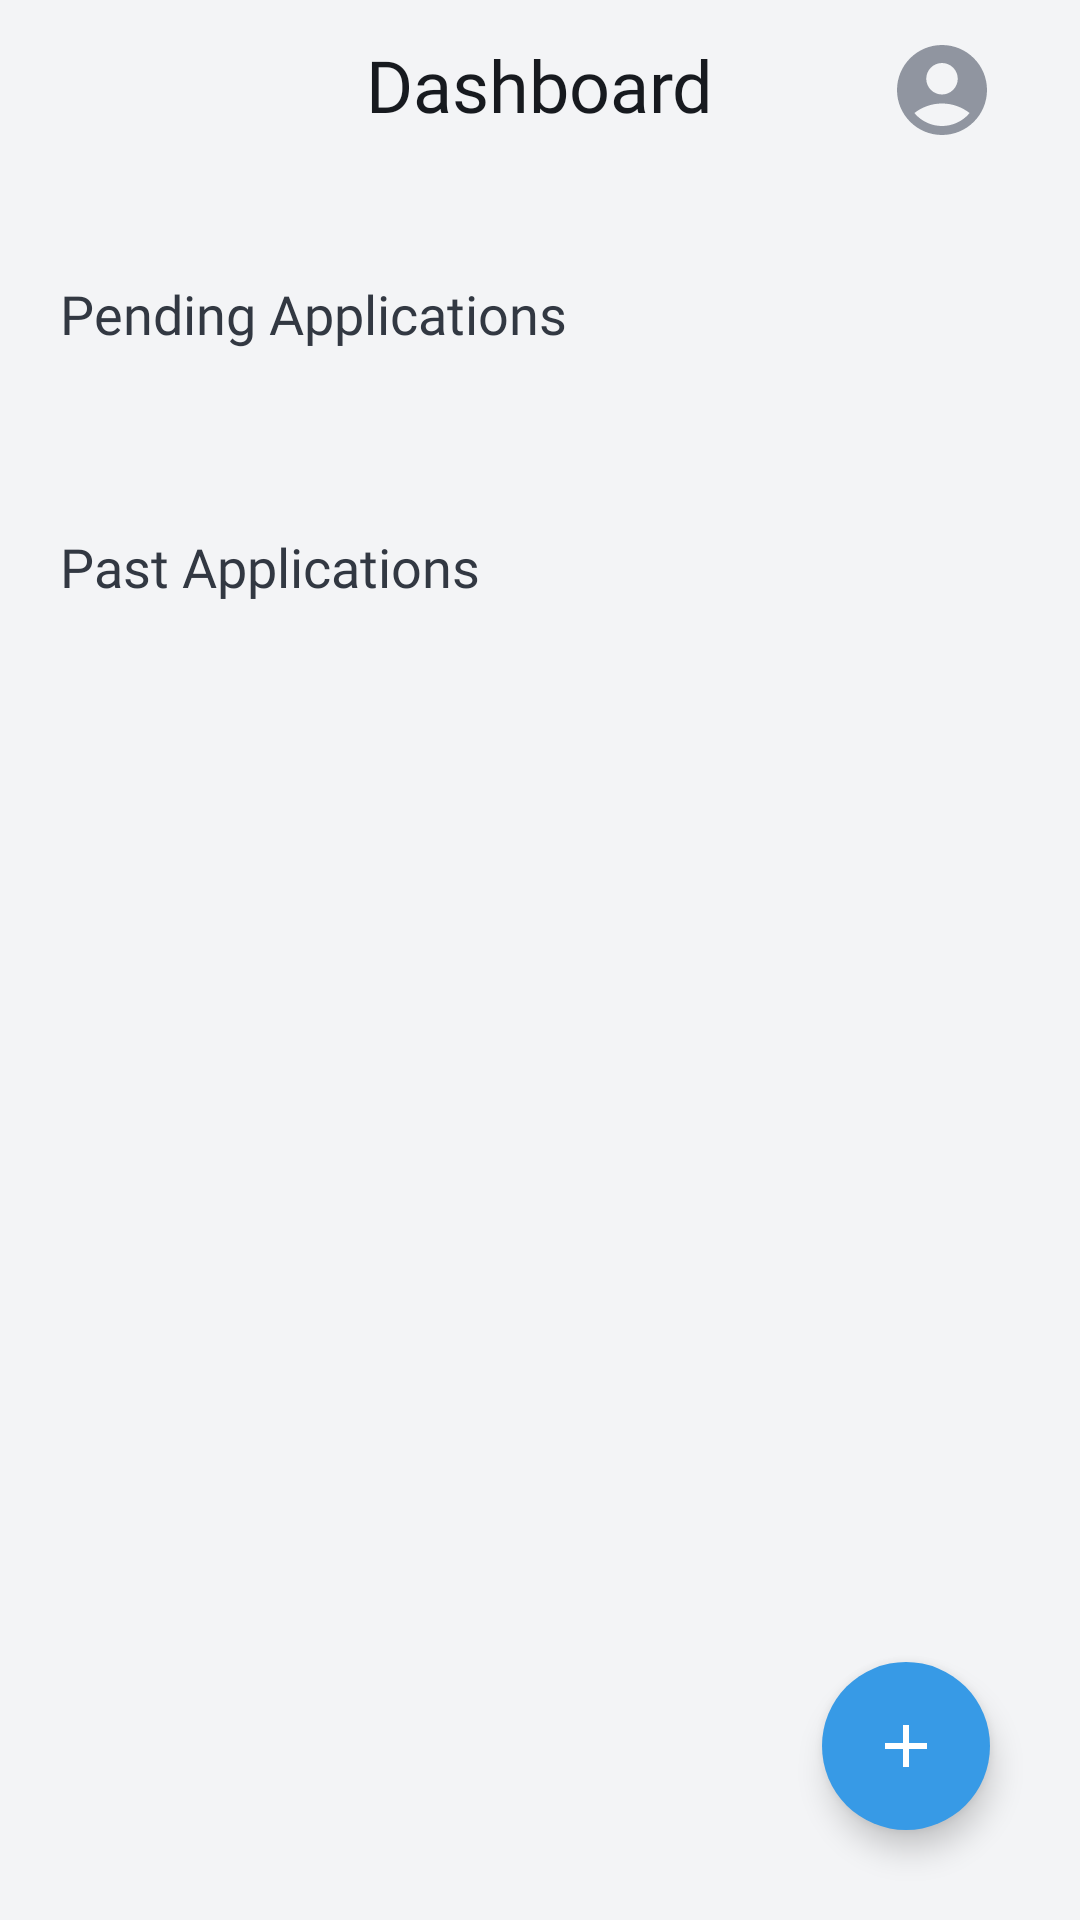

Screen size 1080*1920. Icon name, then its center in pixels as (x=x, y=y):
add: (x=906, y=1746)
profile: (x=942, y=90)
